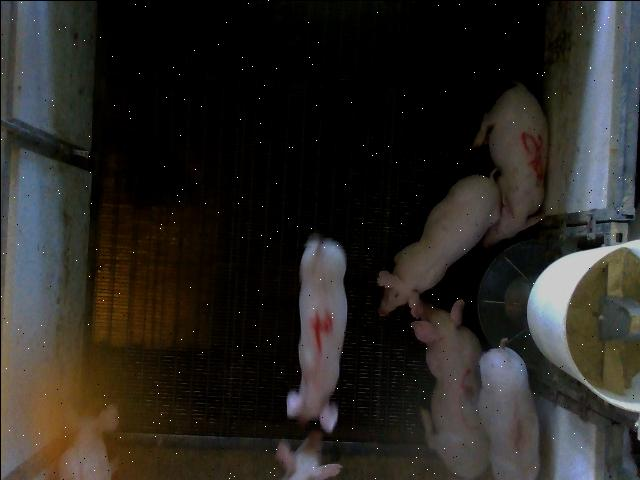pig-1: (478, 338, 539, 479)
pig-3: (411, 299, 488, 478)
pig-4: (286, 232, 346, 431)
pig-5: (471, 80, 546, 246)
